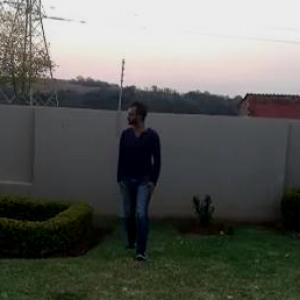follow: (107, 92, 162, 281)
